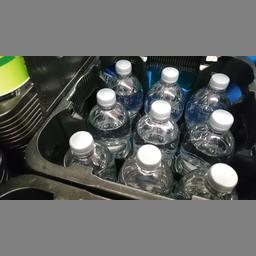water: (58, 128, 116, 178), (118, 143, 174, 192), (180, 108, 236, 154), (88, 86, 128, 150), (134, 100, 180, 154), (174, 156, 236, 196), (138, 64, 185, 115), (184, 68, 232, 116), (106, 58, 140, 116)
